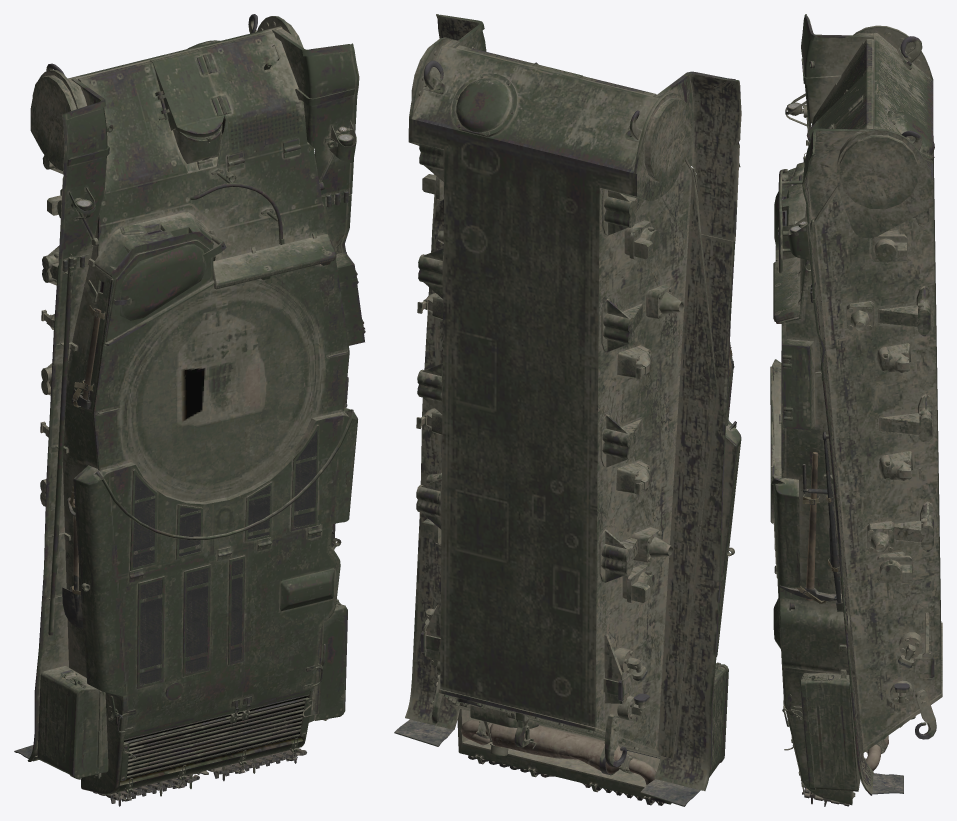
File: Hull.glb
3 views of the same model, side by side, from view 1: azimuth 30°, elevation 25°; view 2: azimuth 150°, elevation 25°; view 3: azimuth 270°, elevation 25° (orthographic). The views are drawn at different scales.
Parts seen in each view (by area): view 1: set_0_group_0; view 2: set_0_group_0; view 3: set_0_group_0.
Part boxes in pixels (x1,y1,x2,y2): set_0_group_0: [14, 14, 365, 806]; set_0_group_0: [394, 14, 741, 806]; set_0_group_0: [770, 14, 942, 806].
Size of the model in its own units: 2.09 by 4.8 by 1.09.
1 material, 1 textured.
